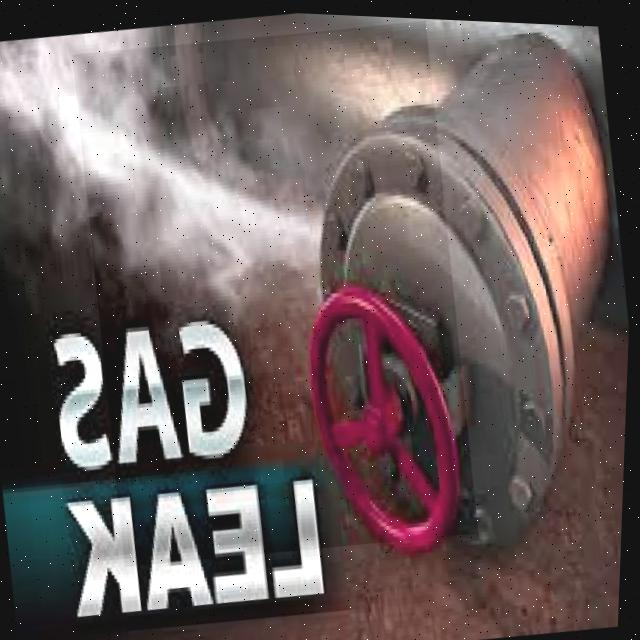corrosion: (16, 42, 453, 547)
